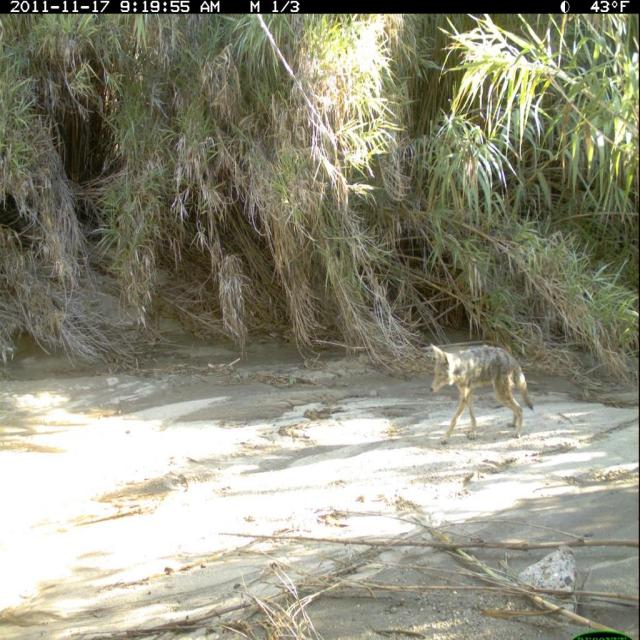coyote: (427, 332, 539, 441)
